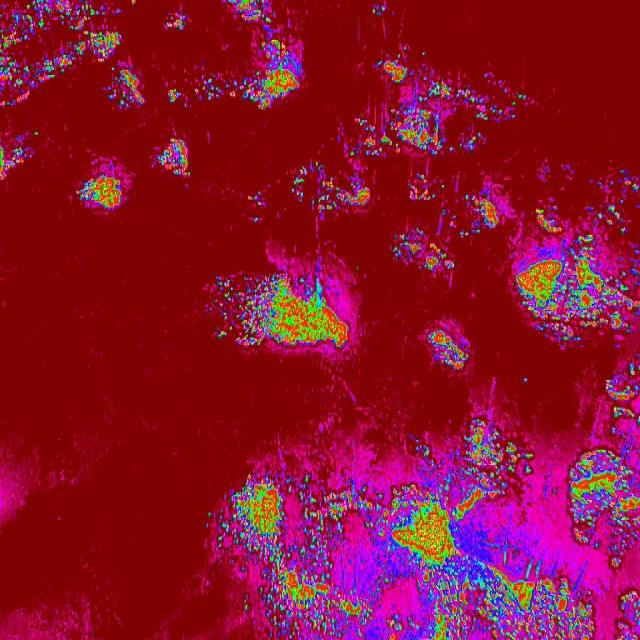fire: (205, 420, 640, 640), (363, 55, 539, 160), (512, 200, 640, 344), (0, 0, 150, 105), (205, 262, 358, 358), (388, 173, 503, 286), (214, 0, 306, 114), (290, 162, 372, 218), (74, 162, 130, 213), (429, 321, 474, 374), (154, 132, 196, 180), (606, 361, 640, 418), (0, 136, 31, 180)
